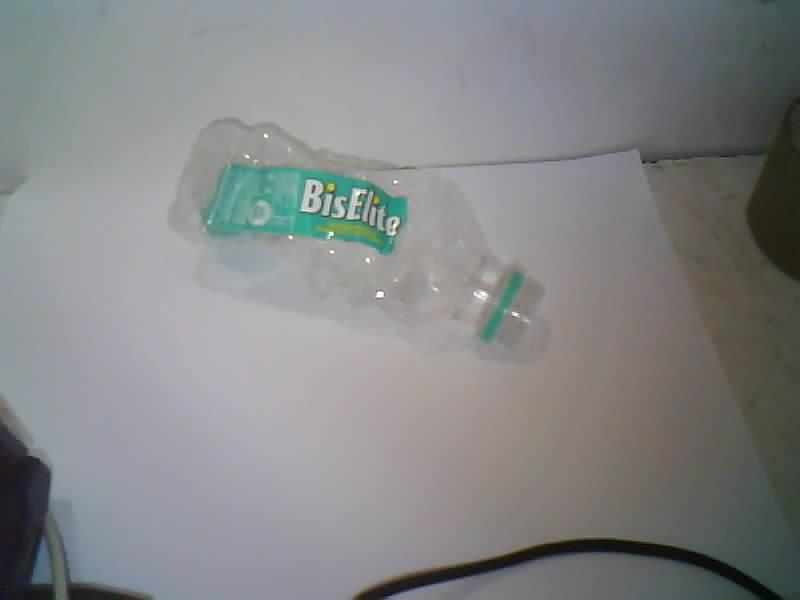non-biodegradable: (169, 119, 543, 356)
